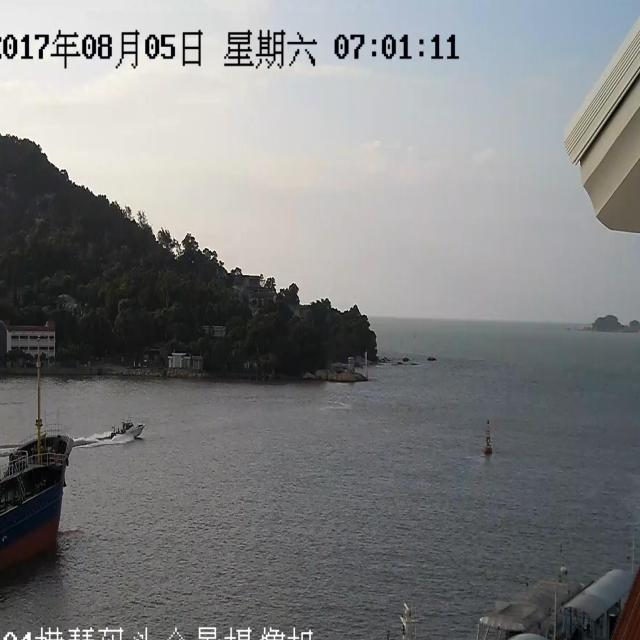buoy: (472, 414, 505, 466)
houseboat: (98, 398, 156, 451)
